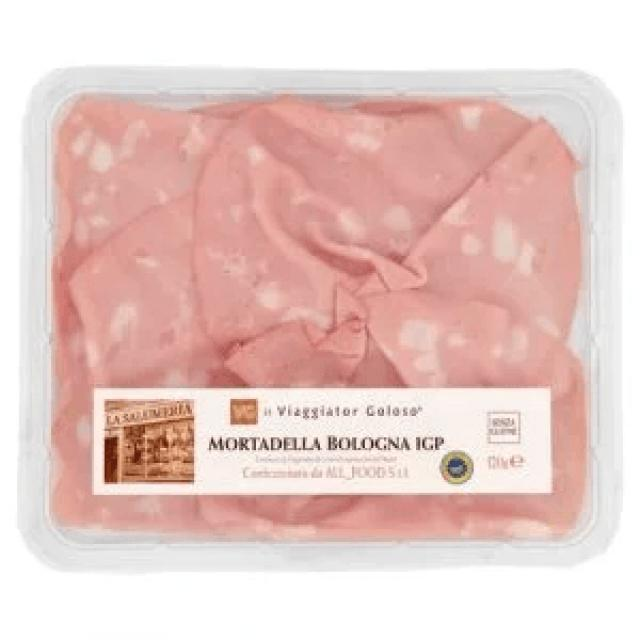ham: (26, 68, 625, 570)
